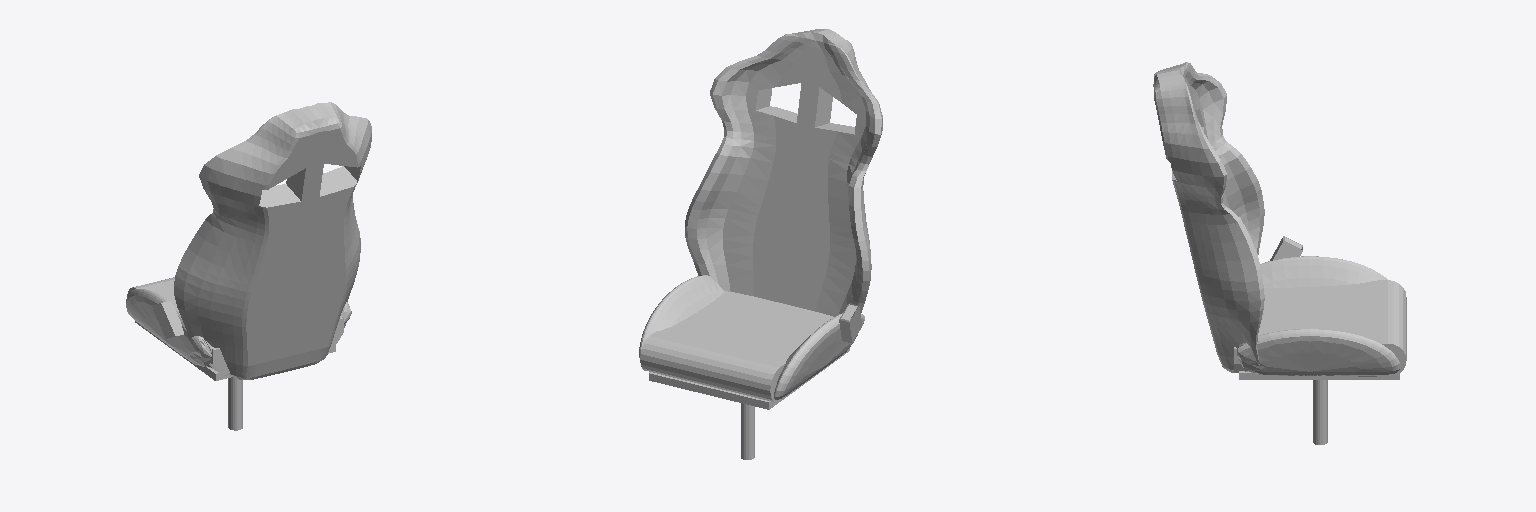
Rendered from silla3.obj.
3 views of the same model, side by side, from view 1: azimuth 30°, elevation 25°; view 2: azimuth 150°, elevation 25°; view 3: azimuth 270°, elevation 25° (orthographic).
Visible parts, largest first — view 1: tablerocontrol:polySurface13 polySurface28; view 2: tablerocontrol:polySurface13 polySurface28; view 3: tablerocontrol:polySurface13 polySurface28.
Boxes of the visible parts, x1,y1,x2,y2 form: tablerocontrol:polySurface13 polySurface28: [126, 102, 371, 430]; tablerocontrol:polySurface13 polySurface28: [639, 29, 882, 459]; tablerocontrol:polySurface13 polySurface28: [1153, 62, 1406, 444].
Size of the model in its own units: 0.1634 by 0.3124 by 0.1924.